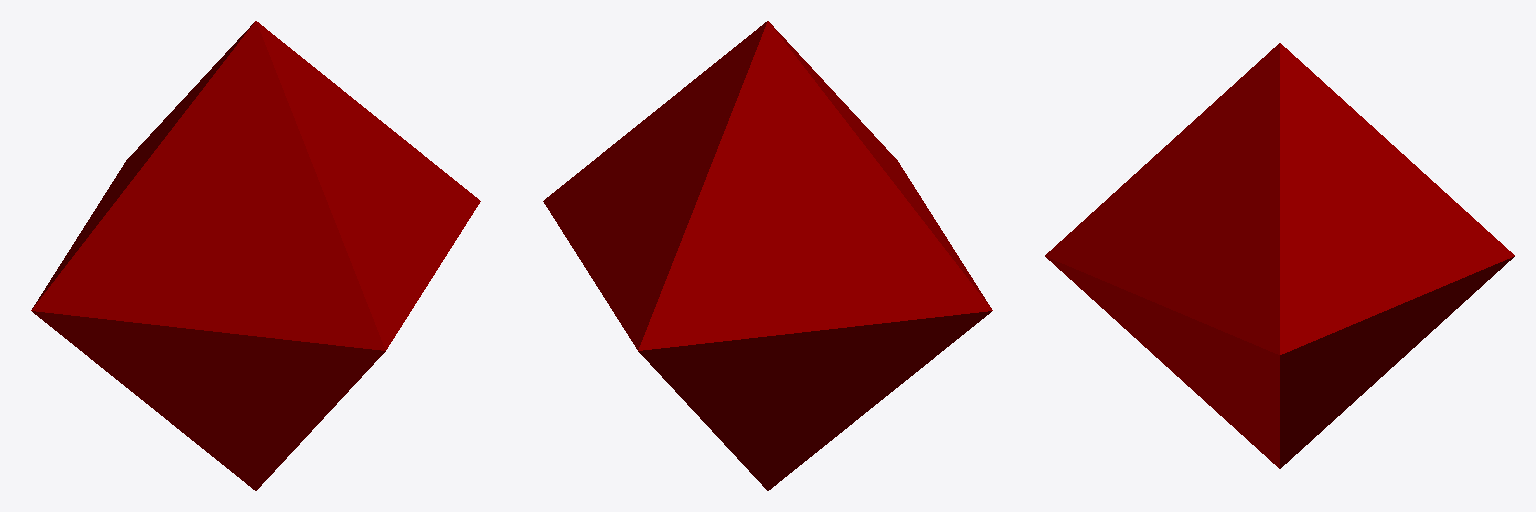
The robot description file, URDF, robot "truth_d8":
<?xml version="1.0" ?>
<robot name="truth_d8"
  xmlns:drake="https://drake.mit.edu/">
    <link name="cube">
        <inertial>
            <origin xyz="0 0 0" rpy="0 0 0"/>
            <mass value="0.5" />
            <inertia
                ixx="0.5"
                ixy="0"
                ixz="0"
                iyy="0.5"
                iyz="0"
                izz="0.5"/>
        </inertial>
        <visual>
            <origin xyz="0 0 0" rpy="0 0 0" />
            <geometry>
                <mesh filename="meshes/d8_5cm_mmscale.obj"/>
            </geometry>
            <material name="pennred">
                <color rgba="0.6 0 0 1.0" />
            </material>
        </visual>
        <collision>
            <geometry>
                <mesh filename="meshes/d8_5cm_mmscale.obj"/>
            </geometry>
            <origin xyz="0 0 0" rpy="0 0 0" />
            <drake:proximity_properties>
                <drake:mu_static value="0.05" />
                <drake:rigid_hydroelastic />
                <drake:mesh_resolution_hint value="0.001" />
                <drake:point_contact_stiffness value="10800.0" />
                <drake:hunt_crossley_dissipation value="0.4" />
            </drake:proximity_properties>
        </collision>
    </link>
</robot>

--- Render facts (derived) ---
3 views of the same robot in one strip: view 1: azimuth 30°, elevation 25°; view 2: azimuth 150°, elevation 25°; view 3: azimuth 270°, elevation 25° (orthographic).
Robot: truth_d8 — 1 links, 0 joints (none); root link cube; default pose: all joints at 0.
Visible links, largest first — view 1: cube; view 2: cube; view 3: cube.
Boxes of the visible links, bbox=[...] form: cube: bbox=[31, 21, 480, 490]; cube: bbox=[543, 21, 992, 490]; cube: bbox=[1045, 43, 1514, 468].
Bounding box of the posed robot: 0.05 × 0.05 × 0.05 m (x, y, z).
1 mesh visuals loaded from 1 distinct referenced files (1 OBJ).
